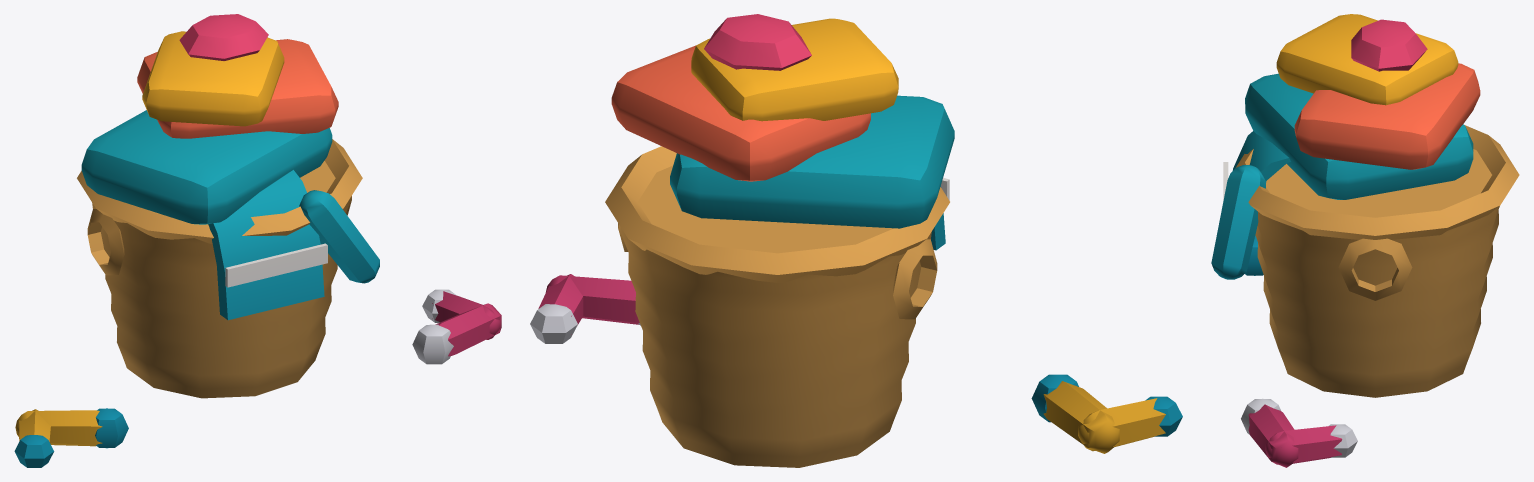
The model's file is hz_laundry.glb.
The picture shows the model from 3 angles, left to right: view 1: azimuth 30°, elevation 25°; view 2: azimuth 150°, elevation 25°; view 3: azimuth 270°, elevation 25°; orthographic projection. The views are drawn at different scales.
Visible parts, largest first — view 1: hz_laundry; view 2: hz_laundry; view 3: hz_laundry.
Boxes of the visible parts, x1=… form: hz_laundry: x1=14, y1=14, x2=501, y2=467; hz_laundry: x1=530, y1=14, x2=1182, y2=467; hz_laundry: x1=1211, y1=14, x2=1519, y2=467.
Bounding box in the file's own units: 1.45 × 0.93 × 0.7672.
